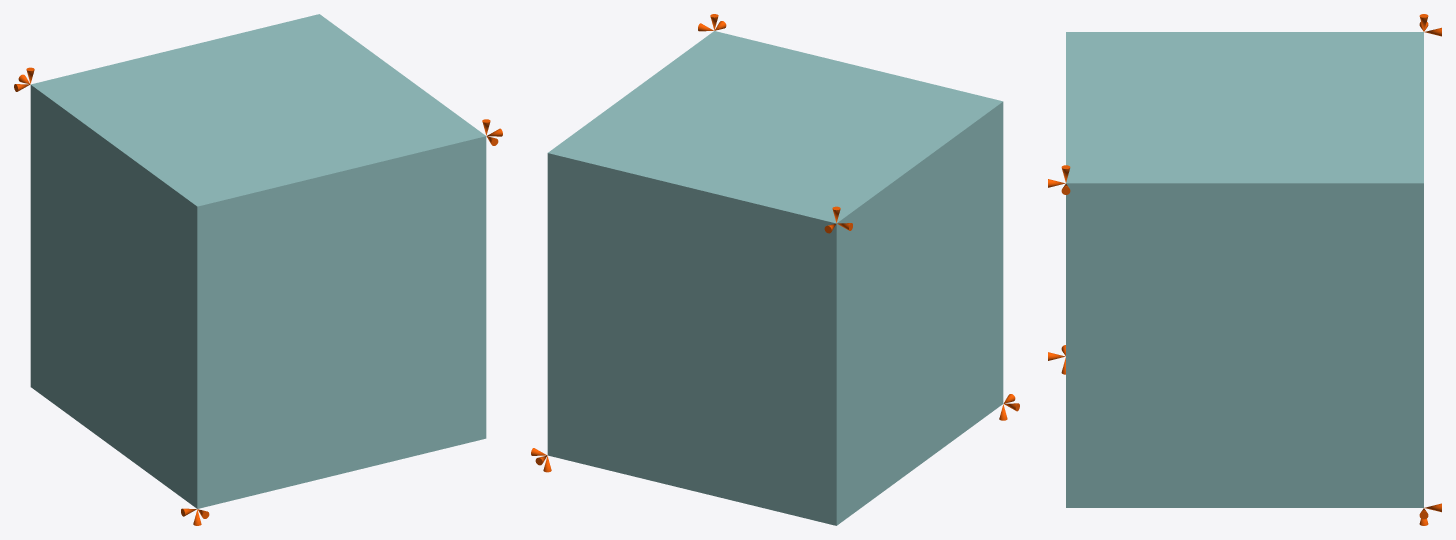
File: ARC_ChaserBody.obj
3 views of the same model, side by side, from view 1: azimuth 30°, elevation 25°; view 2: azimuth 150°, elevation 25°; view 3: azimuth 270°, elevation 25° (orthographic). The views are drawn at different scales.
Visible parts, largest first — view 1: Body; view 2: Body; view 3: Body.
Part boxes in pixels (x1=…): Body: x1=30, y1=14, x2=486, y2=508; Body: x1=547, y1=31, x2=1003, y2=525; Body: x1=1066, y1=32, x2=1423, y2=507.
Size of the model in its own units: 2.2 by 2.2 by 2.2.
